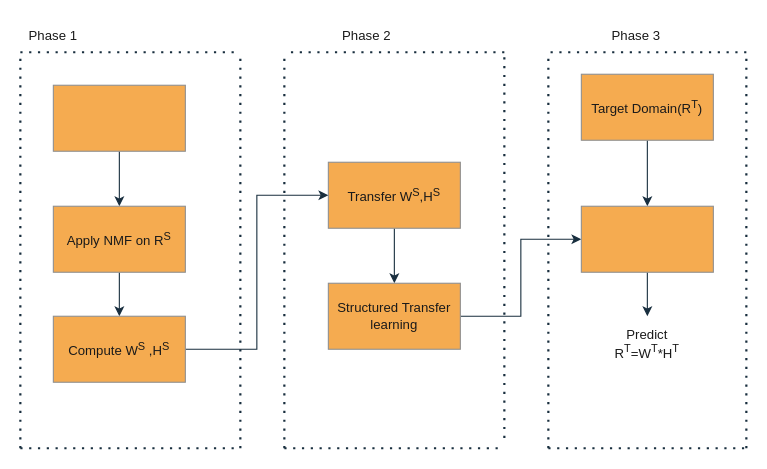
This 767x469 diagram has some shape labels left out. The box of each missing label's shape, as (x1, y1, x2, y2) in pixels:
Refine R T: (580, 205, 713, 272)
Source Domain(R S ): (52, 84, 185, 151)
